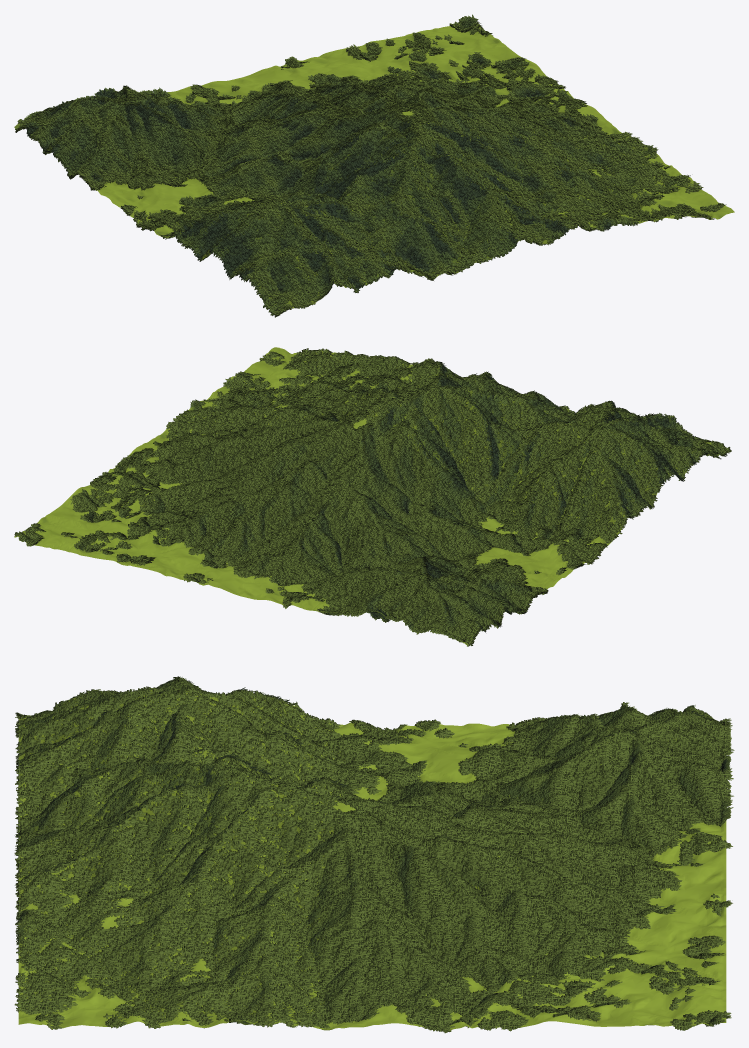
The model's file is bukid.glb.
3 views of the same model, one above another, from view 1: azimuth 30°, elevation 25°; view 2: azimuth 150°, elevation 25°; view 3: azimuth 270°, elevation 25° (orthographic). The views are drawn at different scales.
Visible parts, largest first — view 1: BushesNode, TerrainNode; view 2: BushesNode, TerrainNode; view 3: BushesNode, TerrainNode.
Part boxes in pixels (<box>): BushesNode: <box>15,14,726,317</box>; TerrainNode: <box>14,22,734,309</box>; BushesNode: <box>14,348,731,646</box>; TerrainNode: <box>14,347,725,645</box>; BushesNode: <box>14,676,734,1033</box>; TerrainNode: <box>18,689,726,1030</box>.
Bounding box in the file's own units: 1.02 × 0.1754 × 1.02.
5 materials, 4 textured.
